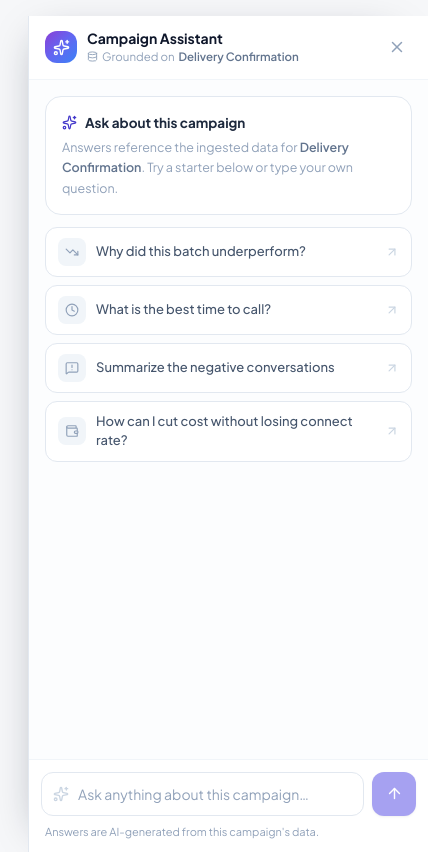
Test: ChatPanel — empty state & suggestions › renders assistant markdown (headings, bold, tables) instead of raw syntax
Click the button "Why did this batch underperform?".
click(228, 252)  # box [45,227,412,277]
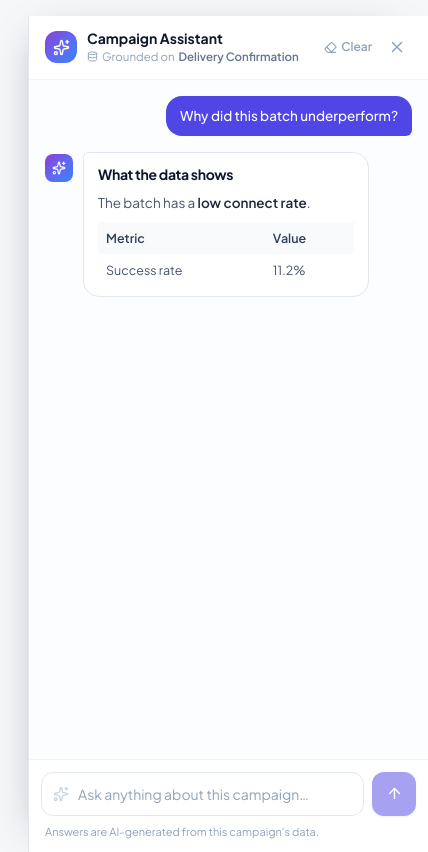
Result: the heading "What the data shows" is shown at [98,165,233,183]
Result: the table is shown at [98,222,354,286]
Result: the column heading "Metric" is shown at [98,222,265,254]
